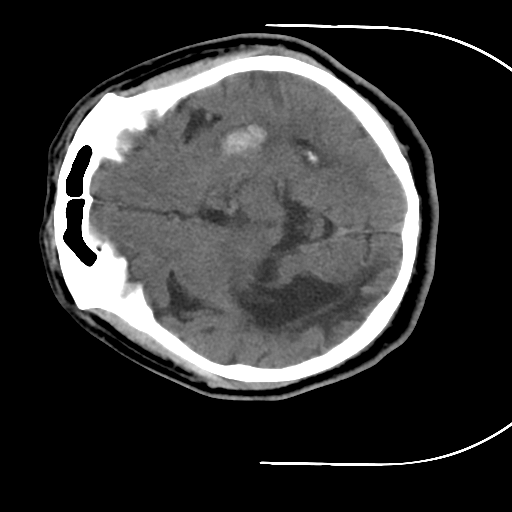a: (204, 111, 287, 176)
